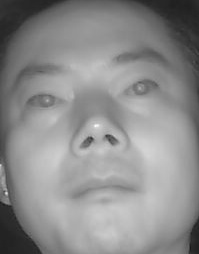eye: (20, 88, 67, 114), (119, 77, 162, 102)
mouth: (68, 165, 147, 209)
